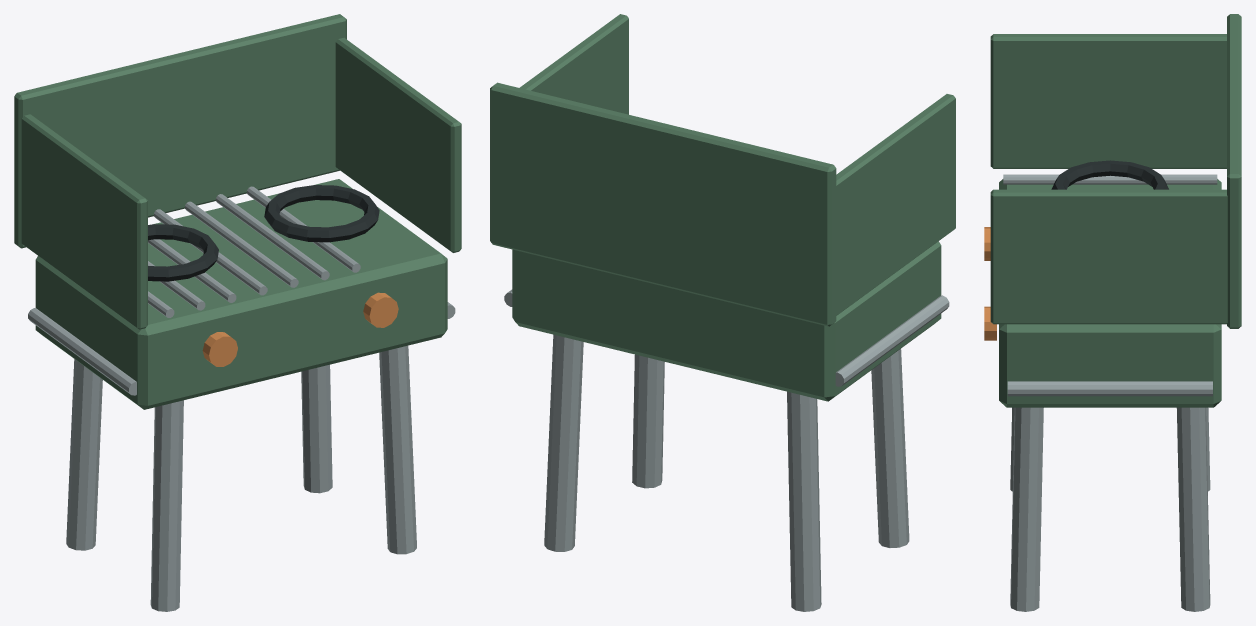
File: Camp_Stove_A.glb
3 renders of one model, left to right at view 1: azimuth 30°, elevation 25°; view 2: azimuth 150°, elevation 25°; view 3: azimuth 270°, elevation 25°, orthographic. The views are drawn at different scales.
Visible parts, largest first — view 1: Camp_Stove_A; view 2: Camp_Stove_A; view 3: Camp_Stove_A.
Boxes of the visible parts, left/top/right/bottom form: Camp_Stove_A: left=14, top=14, right=461, bottom=611; Camp_Stove_A: left=490, top=14, right=955, bottom=611; Camp_Stove_A: left=984, top=14, right=1241, bottom=611.
Size of the model in its own units: 0.9 by 1.17 by 0.6025.
